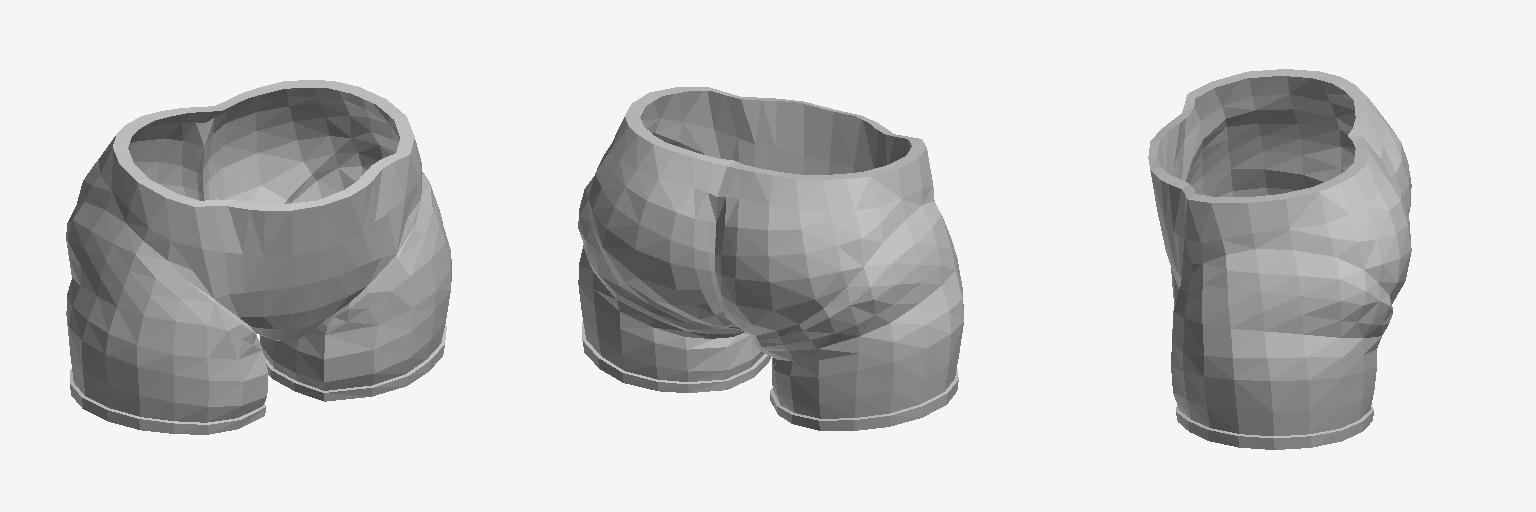
File: clo4.obj
The picture shows the model from 3 angles: view 1: azimuth 30°, elevation 25°; view 2: azimuth 150°, elevation 25°; view 3: azimuth 270°, elevation 25°; orthographic projection.
Visible parts, largest first — view 1: HotPants_mtr_G11_V100.045; view 2: HotPants_mtr_G11_V100.045; view 3: HotPants_mtr_G11_V100.045.
Boxes of the visible parts, box(x1,y1,x2,y2) form: HotPants_mtr_G11_V100.045: box(66, 80, 451, 434); HotPants_mtr_G11_V100.045: box(578, 87, 963, 430); HotPants_mtr_G11_V100.045: box(1148, 69, 1411, 449).
Bounding box in the file's own units: 0.3189 × 0.215 × 0.2036.